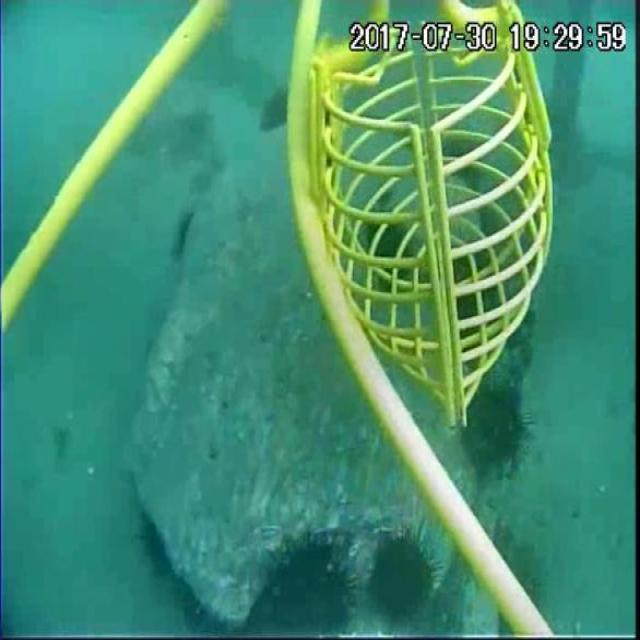echinus: (259, 529, 357, 640), (363, 525, 440, 635), (459, 383, 534, 473), (260, 85, 301, 135)
